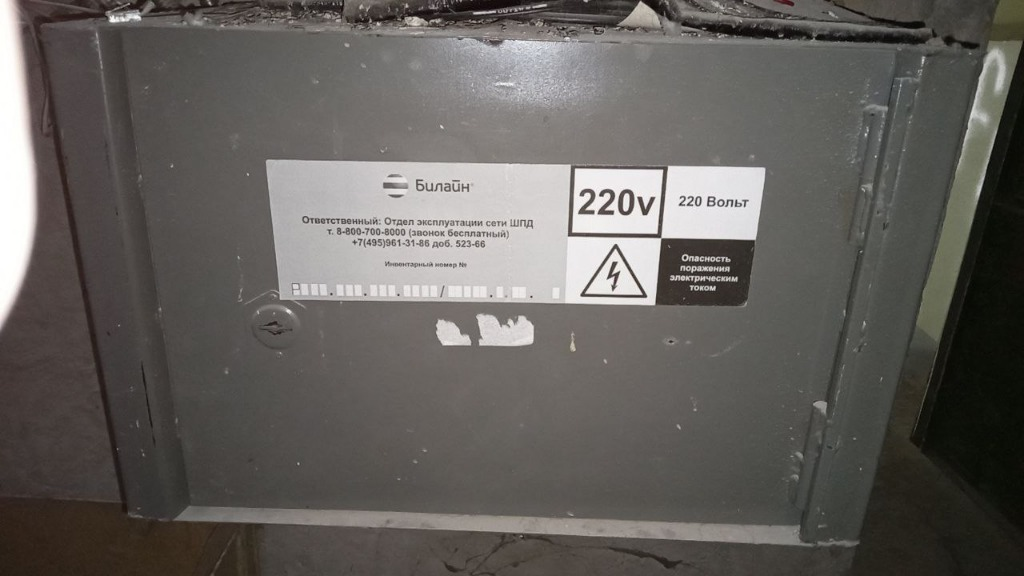e2-6u: (32, 17, 987, 557)
